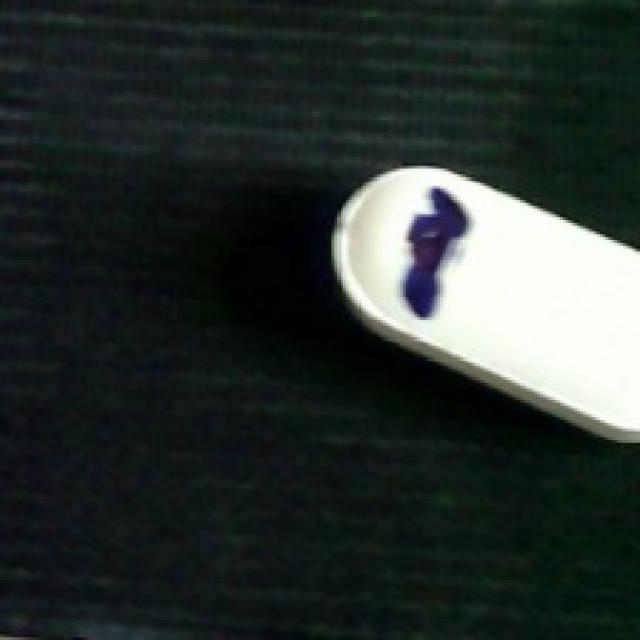defected: (323, 156, 640, 449)
